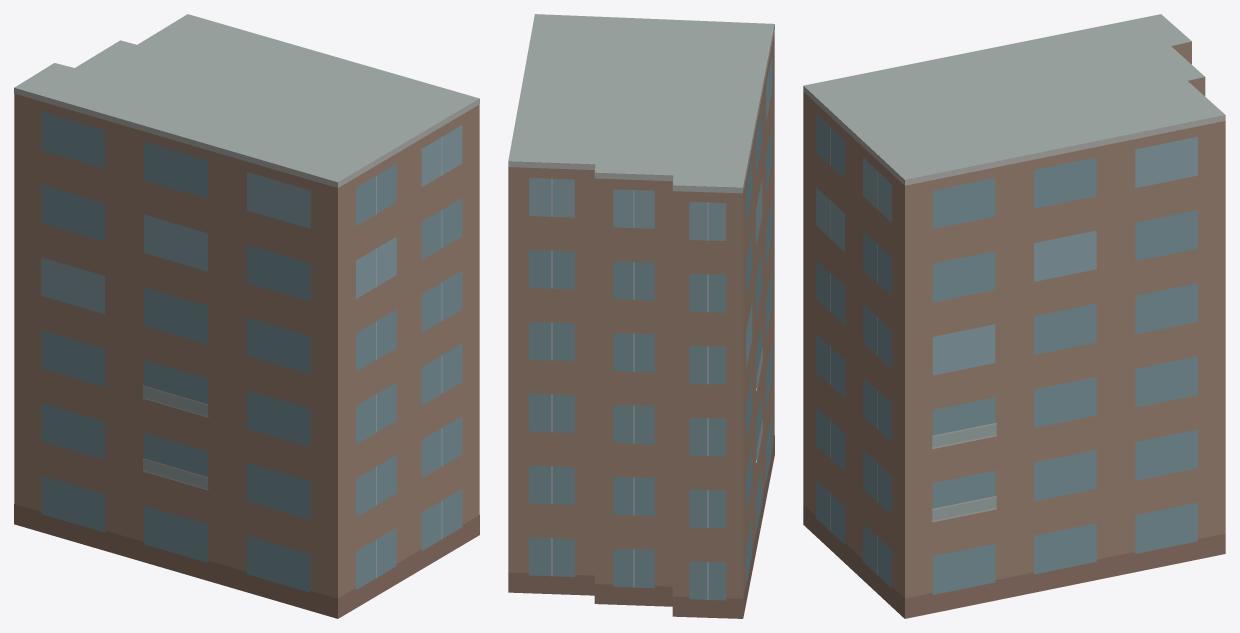
File: survey-upis-32929107.glb
3 renders of one model, left to right at view 1: azimuth 30°, elevation 25°; view 2: azimuth 150°, elevation 25°; view 3: azimuth 270°, elevation 25°, orthographic.
Parts seen in each view (by area): view 1: survey-upis-32929107.tmp; view 2: survey-upis-32929107.tmp; view 3: survey-upis-32929107.tmp.
Boxes of the visible parts, <box> form: survey-upis-32929107.tmp: <box>14,14,479,618</box>; survey-upis-32929107.tmp: <box>508,14,774,618</box>; survey-upis-32929107.tmp: <box>803,14,1225,618</box>.
Size of the model in its own units: 14.85 by 18.3 by 15.97.
